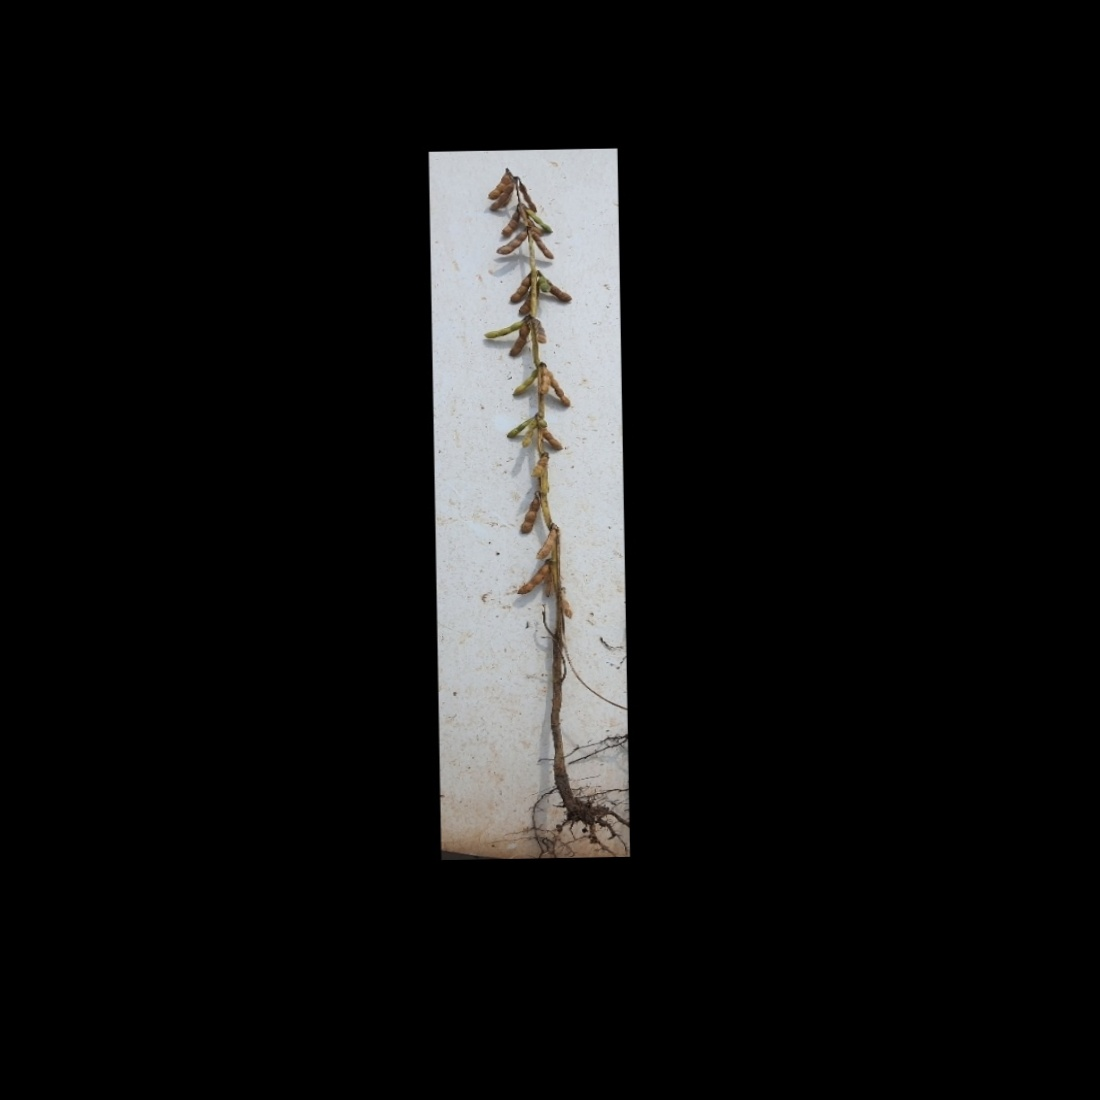pod: (514, 564, 549, 597), (482, 316, 529, 338), (491, 230, 530, 256), (501, 271, 532, 303), (518, 494, 540, 537), (510, 366, 539, 398), (507, 323, 533, 359), (533, 526, 558, 561), (549, 372, 572, 410), (530, 234, 557, 263), (499, 207, 522, 237), (516, 179, 536, 213), (527, 208, 552, 233), (542, 425, 564, 451), (521, 421, 541, 449), (559, 597, 576, 621)
soy: (452, 164, 610, 844)
